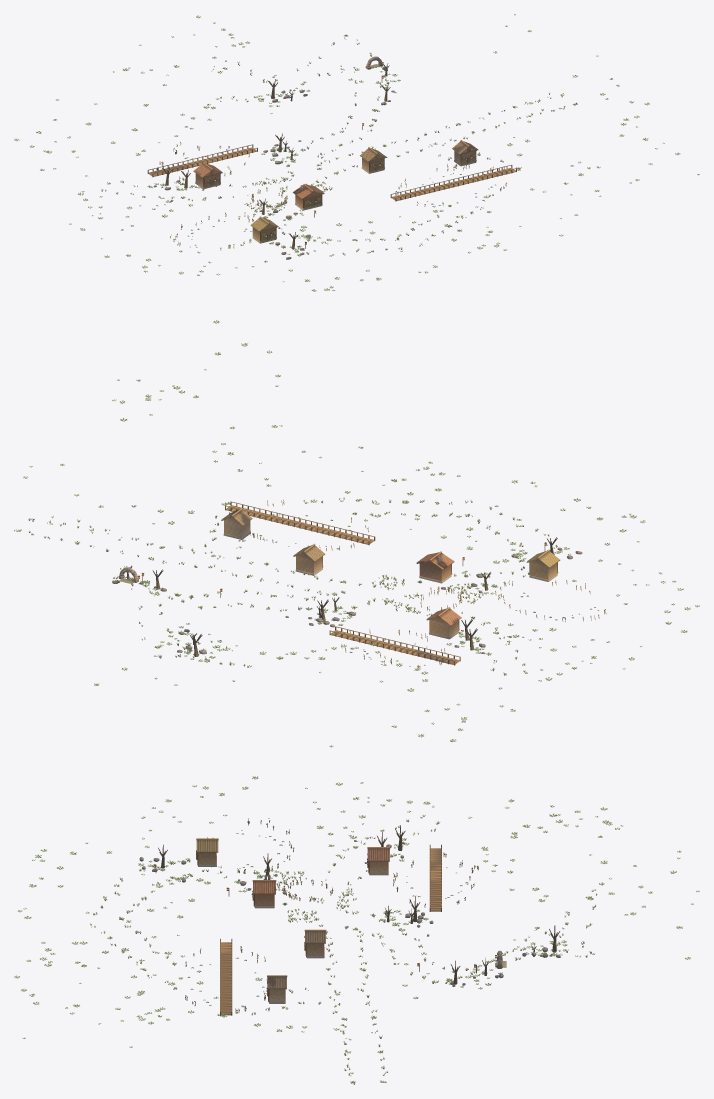
Rendered from district_moor.glb.
The picture shows the model from 3 angles, top to bottom: view 1: azimuth 30°, elevation 25°; view 2: azimuth 150°, elevation 25°; view 3: azimuth 270°, elevation 25°; orthographic projection. The views are drawn at different scales.
Visible parts, largest first — view 1: moor · -1,0, moor · 0,-1, moor · -1,-1, moor · 1,-1, moor · -2,0, moor · -1,-2, moor · 0,1, moor · -2,-2, moor · -2,-1, moor · 1,0; view 2: moor · -1,0, moor · -1,-1, moor · 0,-1, moor · 1,-1, moor · -2,-1, moor · -2,0, moor · 0,1; view 3: moor · -1,-1, moor · -1,0, moor · 0,-1, moor · 1,-1, moor · -1,-2, moor · -2,0, moor · 0,1, moor · 1,0.
Boxes of the visible parts, bbox=[...] form: moor · -1,0: bbox=[148, 115, 298, 189]; moor · 0,-1: bbox=[317, 139, 516, 201]; moor · -1,-1: bbox=[218, 168, 332, 233]; moor · 1,-1: bbox=[430, 102, 533, 187]; moor · -2,0: bbox=[40, 130, 204, 214]; moor · -1,-2: bbox=[270, 221, 422, 279]; moor · 0,1: bbox=[213, 22, 347, 113]; moor · -2,-2: bbox=[179, 216, 309, 282]; moor · -2,-1: bbox=[100, 196, 269, 253]; moor · 1,0: bbox=[365, 25, 517, 135]; moor · -1,0: bbox=[308, 597, 461, 666]; moor · -1,-1: bbox=[341, 551, 536, 619]; moor · 0,-1: bbox=[214, 501, 375, 595]; moor · 1,-1: bbox=[89, 501, 274, 556]; moor · -2,-1: bbox=[481, 555, 627, 658]; moor · -2,0: bbox=[399, 617, 583, 711]; moor · 0,1: bbox=[123, 568, 237, 665]; moor · -1,-1: bbox=[198, 840, 359, 927]; moor · -1,0: bbox=[360, 845, 512, 927]; moor · 0,-1: bbox=[209, 927, 359, 1010]; moor · 1,-1: bbox=[206, 975, 351, 1053]; moor · -1,-2: bbox=[57, 840, 218, 927]; moor · -2,0: bbox=[360, 799, 512, 867]; moor · 0,1: bbox=[512, 865, 652, 957]; moor · 1,0: bbox=[365, 950, 506, 1053].
Size of the model in its own units: 114 by 20.87 by 108.
Materials: 4 (3 with a texture image).
